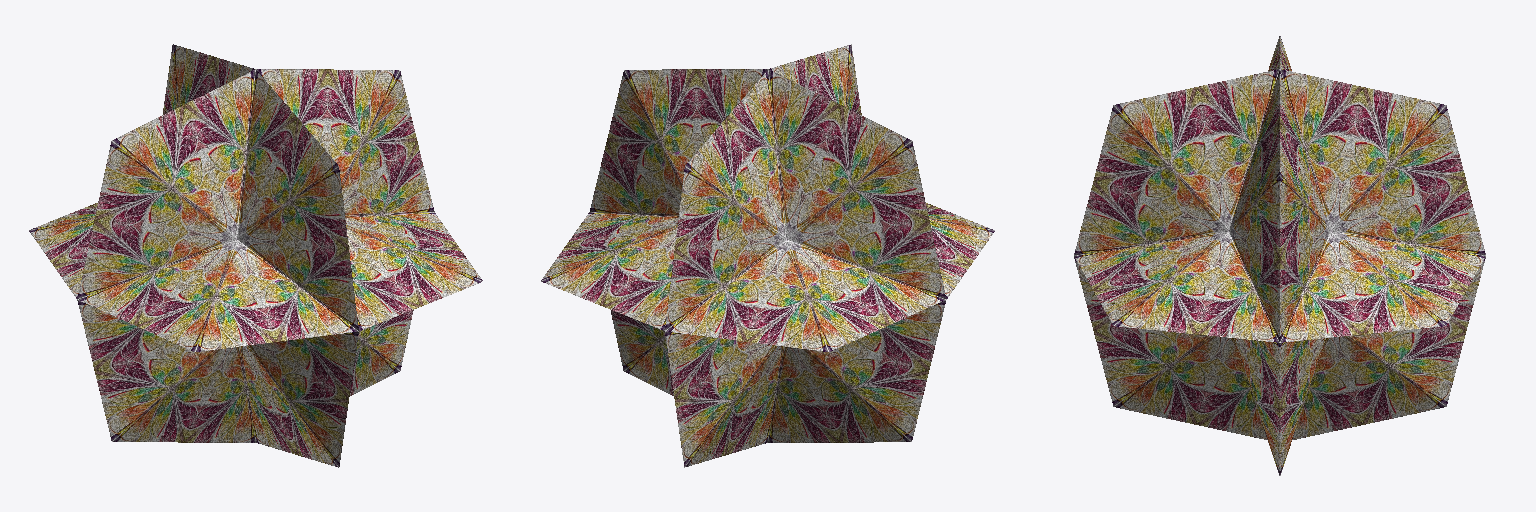
3 views of the same model, side by side, from view 1: azimuth 30°, elevation 25°; view 2: azimuth 150°, elevation 25°; view 3: azimuth 270°, elevation 25° (orthographic).
Size of the model in its own units: 2.41 by 2.41 by 2.41.
Materials: 1 (1 with a texture image).